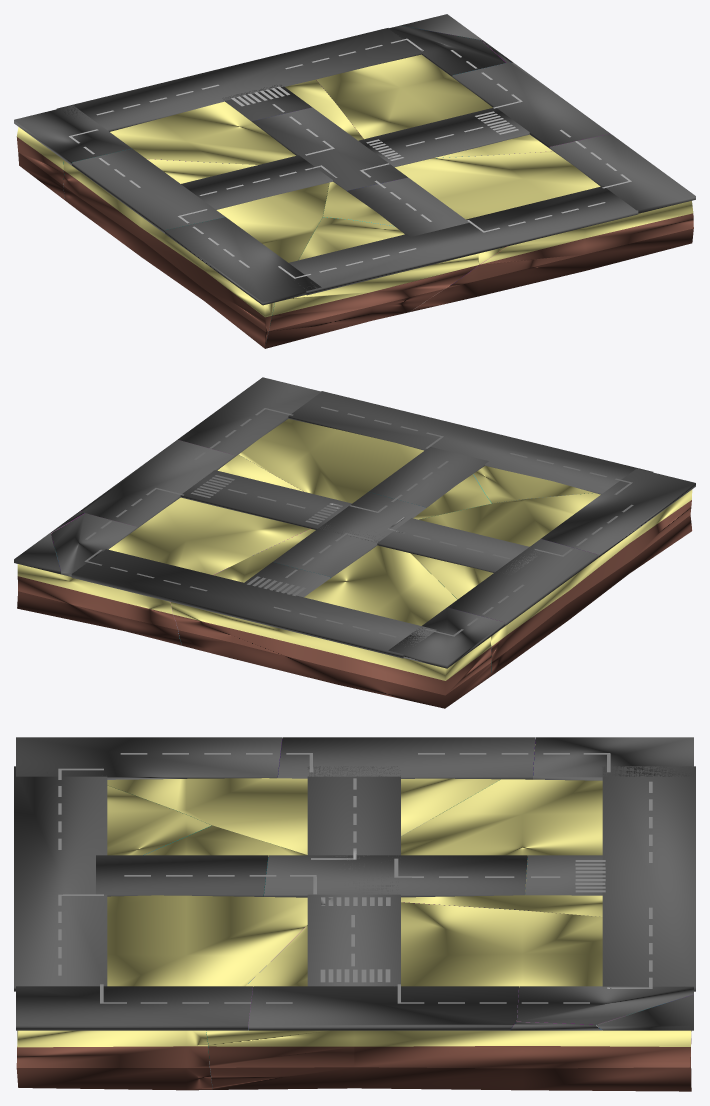
The model's file is Plane-Two.fbx.
3 renders of one model, top to bottom at view 1: azimuth 30°, elevation 25°; view 2: azimuth 150°, elevation 25°; view 3: azimuth 270°, elevation 25°, orthographic. The views are drawn at different scales.
Parts seen in each view (by area): view 1: obj99_cell, obj99_cell.001, obj94_cell.006, obj94_cell.009, obj99_cell.004, obj99_cell.002, obj99_cell.003, obj94_cell.003, obj94_cell.001, obj94_cell.013, obj94_cell.011, obj94_cell.012 (+6 smaller); view 2: obj99_cell.002, obj99_cell.003, obj99_cell.001, obj94_cell.009, obj94_cell.006, obj99_cell, obj94_cell.003, obj94_cell.001, obj94_cell.013, obj94_cell.011, obj94_cell.012, obj94_cell.005 (+6 smaller); view 3: obj99_cell.003, obj99_cell, obj94_cell.009, obj94_cell.006, obj94_cell.003, obj99_cell.002, obj94_cell.013, obj99_cell.001, obj94_cell.001, obj94_cell.012, obj94_cell.005, obj94_cell.011 (+7 smaller).
Boxes of the visible parts, x1,y1,x2,y2 form: obj99_cell: (322, 151, 693, 312); obj99_cell.001: (63, 159, 329, 348); obj94_cell.006: (289, 186, 638, 295); obj94_cell.009: (57, 28, 421, 131); obj99_cell.004: (265, 217, 506, 348); obj99_cell.002: (16, 79, 363, 200); obj99_cell.003: (316, 54, 552, 158); obj94_cell.003: (181, 108, 529, 209); obj94_cell.001: (165, 217, 321, 305); obj94_cell.013: (452, 62, 610, 148); obj94_cell.011: (72, 148, 225, 233); obj94_cell.012: (252, 107, 407, 191); obj99_cell.002: (170, 529, 491, 708); obj99_cell.003: (17, 454, 310, 645); obj99_cell.001: (411, 489, 692, 675); obj94_cell.009: (71, 549, 436, 658); obj94_cell.006: (288, 391, 653, 494); obj99_cell: (239, 419, 491, 519); obj94_cell.003: (180, 470, 542, 575); obj94_cell.001: (541, 468, 695, 557); obj94_cell.013: (80, 440, 234, 528); obj94_cell.011: (447, 539, 598, 625); obj94_cell.012: (273, 492, 425, 577); obj94_cell.005: (177, 377, 321, 456); obj99_cell.003: (206, 902, 691, 1091); obj99_cell: (16, 825, 307, 1090); obj94_cell.009: (602, 766, 695, 991); obj94_cell.006: (14, 766, 107, 991); obj94_cell.003: (307, 766, 400, 986); obj99_cell.002: (401, 779, 602, 916); obj94_cell.013: (248, 986, 518, 1030); obj99_cell.001: (107, 744, 535, 854); obj94_cell.001: (16, 737, 282, 779); obj94_cell.012: (264, 855, 527, 897); obj94_cell.005: (16, 986, 252, 1030); obj94_cell.011: (278, 737, 535, 779).
Bounding box in the file's own units: 658 × 72.13 × 658.
Materials: 1 (1 with a texture image).
